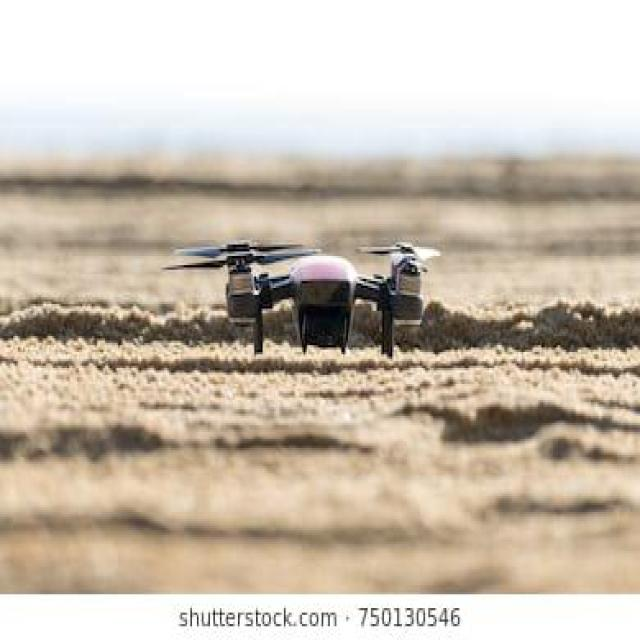drone: (146, 217, 452, 381)
